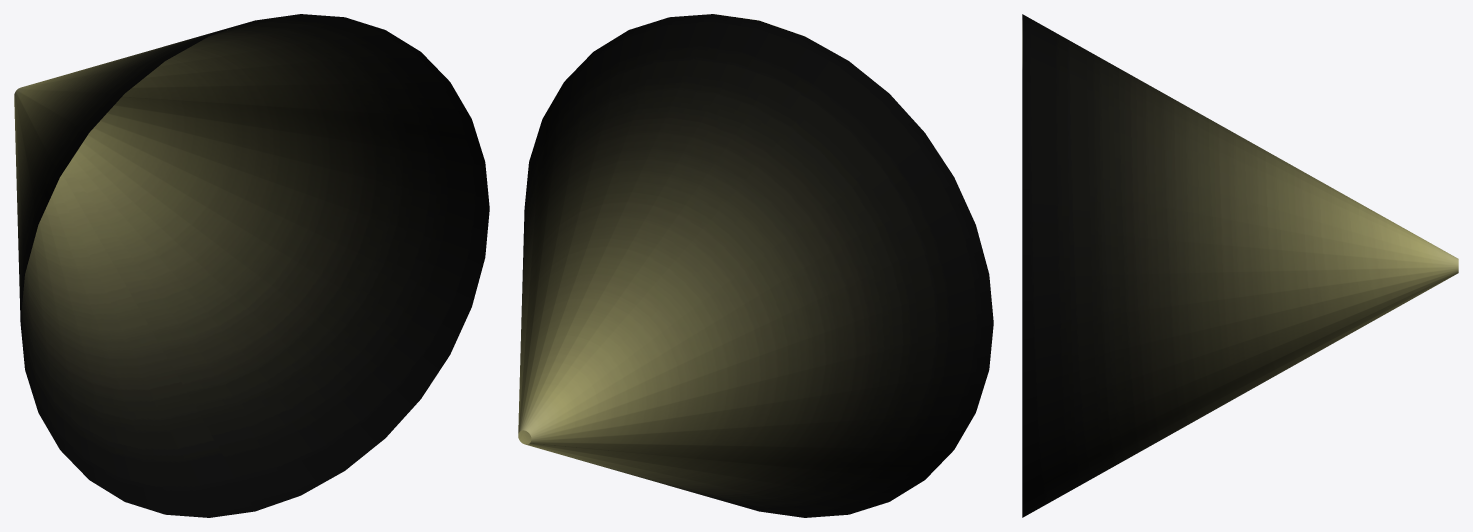
File: VolumetricSpotlightWide.fbx
The picture shows the model from 3 angles, left to right: view 1: azimuth 30°, elevation 25°; view 2: azimuth 150°, elevation 25°; view 3: azimuth 270°, elevation 25°; orthographic projection. The views are drawn at different scales.
Visible parts, largest first — view 1: VolumetricSpotlight.001; view 2: VolumetricSpotlight.001; view 3: VolumetricSpotlight.001.
Boxes of the visible parts, x1,y1,x2,y2 form: VolumetricSpotlight.001: (14,14,489,517); VolumetricSpotlight.001: (518,14,993,517); VolumetricSpotlight.001: (1022,14,1458,517).
Size of the model in its own units: 5.78 by 5.78 by 5.
